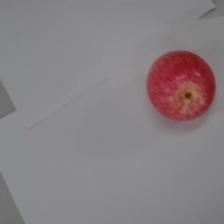red: (147, 50, 216, 121)
